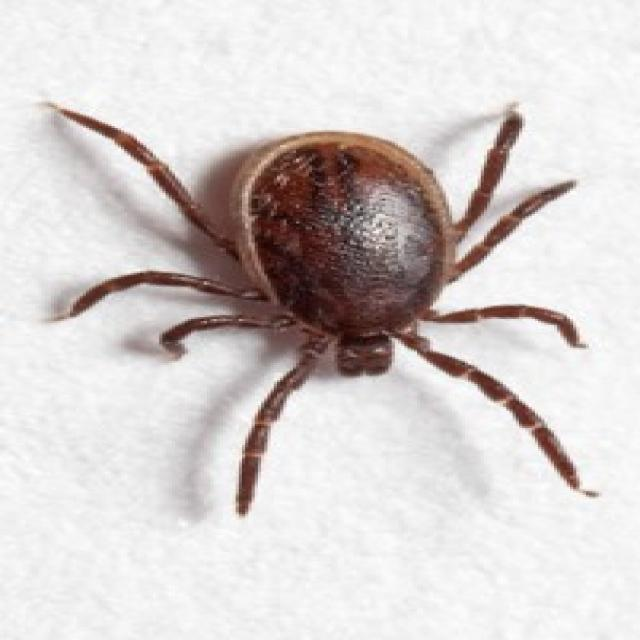Ixodes Ricinus-M: (48, 109, 583, 520)
